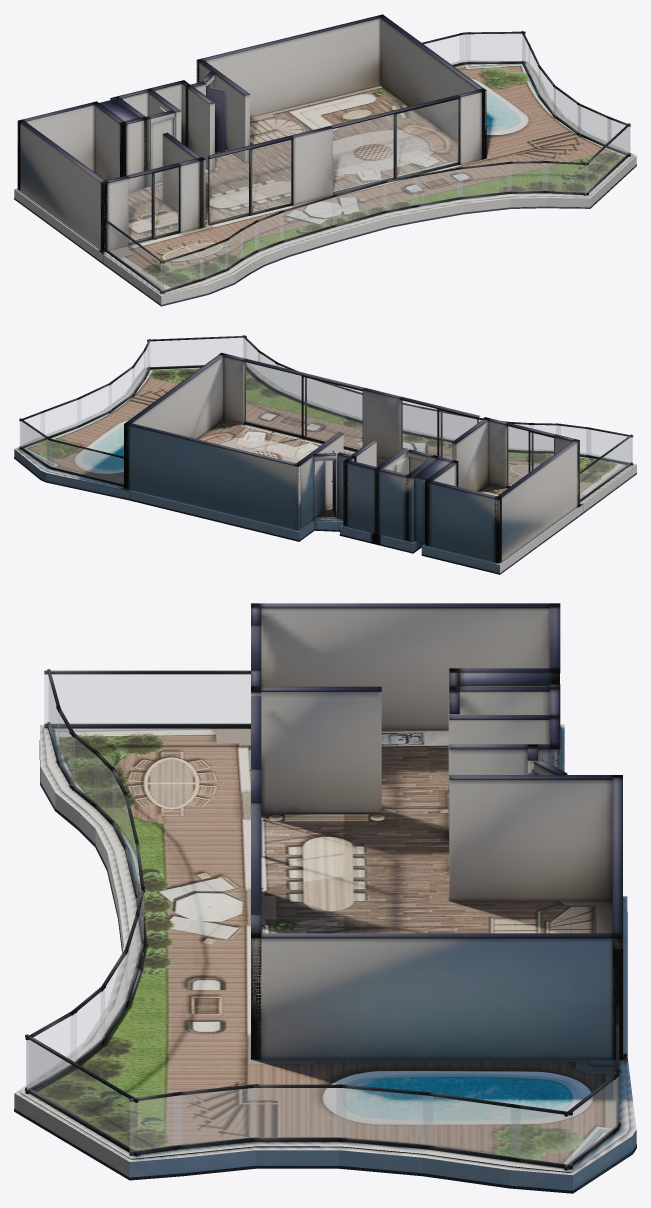
The picture shows the model from 3 angles, top to bottom: view 1: azimuth 30°, elevation 25°; view 2: azimuth 150°, elevation 25°; view 3: azimuth 270°, elevation 25°; orthographic projection. The views are drawn at different scales.
Parts seen in each view (by area): view 1: plan, glass2_m, glass1_m, glass0_m, railg2_m, railg17_m, railg7_m, railg16_m, railg13_m, railg14_m, railg11_m, railg22_m (+12 smaller); view 2: plan, glass2_m, glass1_m, railg10_m, railg0_m, glass0_m, railg7_m, railg22_m, railg4_m, railg5_m, railg17_m, railg14_m (+11 smaller); view 3: plan, railg7_m, railg10_m, railg4_m, railg6_m, railg5_m, railg8_m, railg3_m, railg9_m, railg2_m, railg11_m, railg12_m (+4 smaller).
Boxes of the visible parts, <box> form: plan: <box>14,14,636,306</box>; glass2_m: <box>333,99,458,192</box>; glass1_m: <box>209,140,291,223</box>; glass0_m: <box>129,167,178,242</box>; railg2_m: <box>465,34,525,61</box>; railg17_m: <box>279,197,336,240</box>; railg7_m: <box>106,223,163,291</box>; railg16_m: <box>332,183,387,224</box>; railg13_m: <box>458,164,511,197</box>; railg14_m: <box>413,169,462,204</box>; railg11_m: <box>543,163,588,192</box>; railg22_m: <box>160,250,203,290</box>; plan: <box>14,335,636,574</box>; glass2_m: <box>244,362,362,449</box>; glass1_m: <box>401,400,476,459</box>; railg10_m: <box>147,338,246,367</box>; railg0_m: <box>50,441,123,484</box>; glass0_m: <box>507,426,553,486</box>; railg7_m: <box>580,437,631,499</box>; railg22_m: <box>586,429,632,463</box>; railg4_m: <box>41,399,80,436</box>; railg5_m: <box>77,384,111,425</box>; railg17_m: <box>426,410,480,440</box>; railg14_m: <box>314,380,345,415</box>; plan: <box>14,603,636,1193</box>; railg7_m: <box>44,674,250,723</box>; railg10_m: <box>26,1040,137,1152</box>; railg4_m: <box>423,1095,520,1158</box>; railg6_m: <box>249,1088,345,1137</box>; railg5_m: <box>337,1088,432,1145</box>; railg8_m: <box>173,1088,257,1145</box>; railg3_m: <box>511,1107,572,1165</box>; railg9_m: <box>130,1095,182,1151</box>; railg2_m: <box>565,1078,617,1166</box>; railg11_m: <box>27,1013,76,1089</box>; railg12_m: <box>71,989,104,1061</box>.
Bounding box in the file's own units: 17.93 × 2.62 × 10.47.
2 materials, 1 textured.
